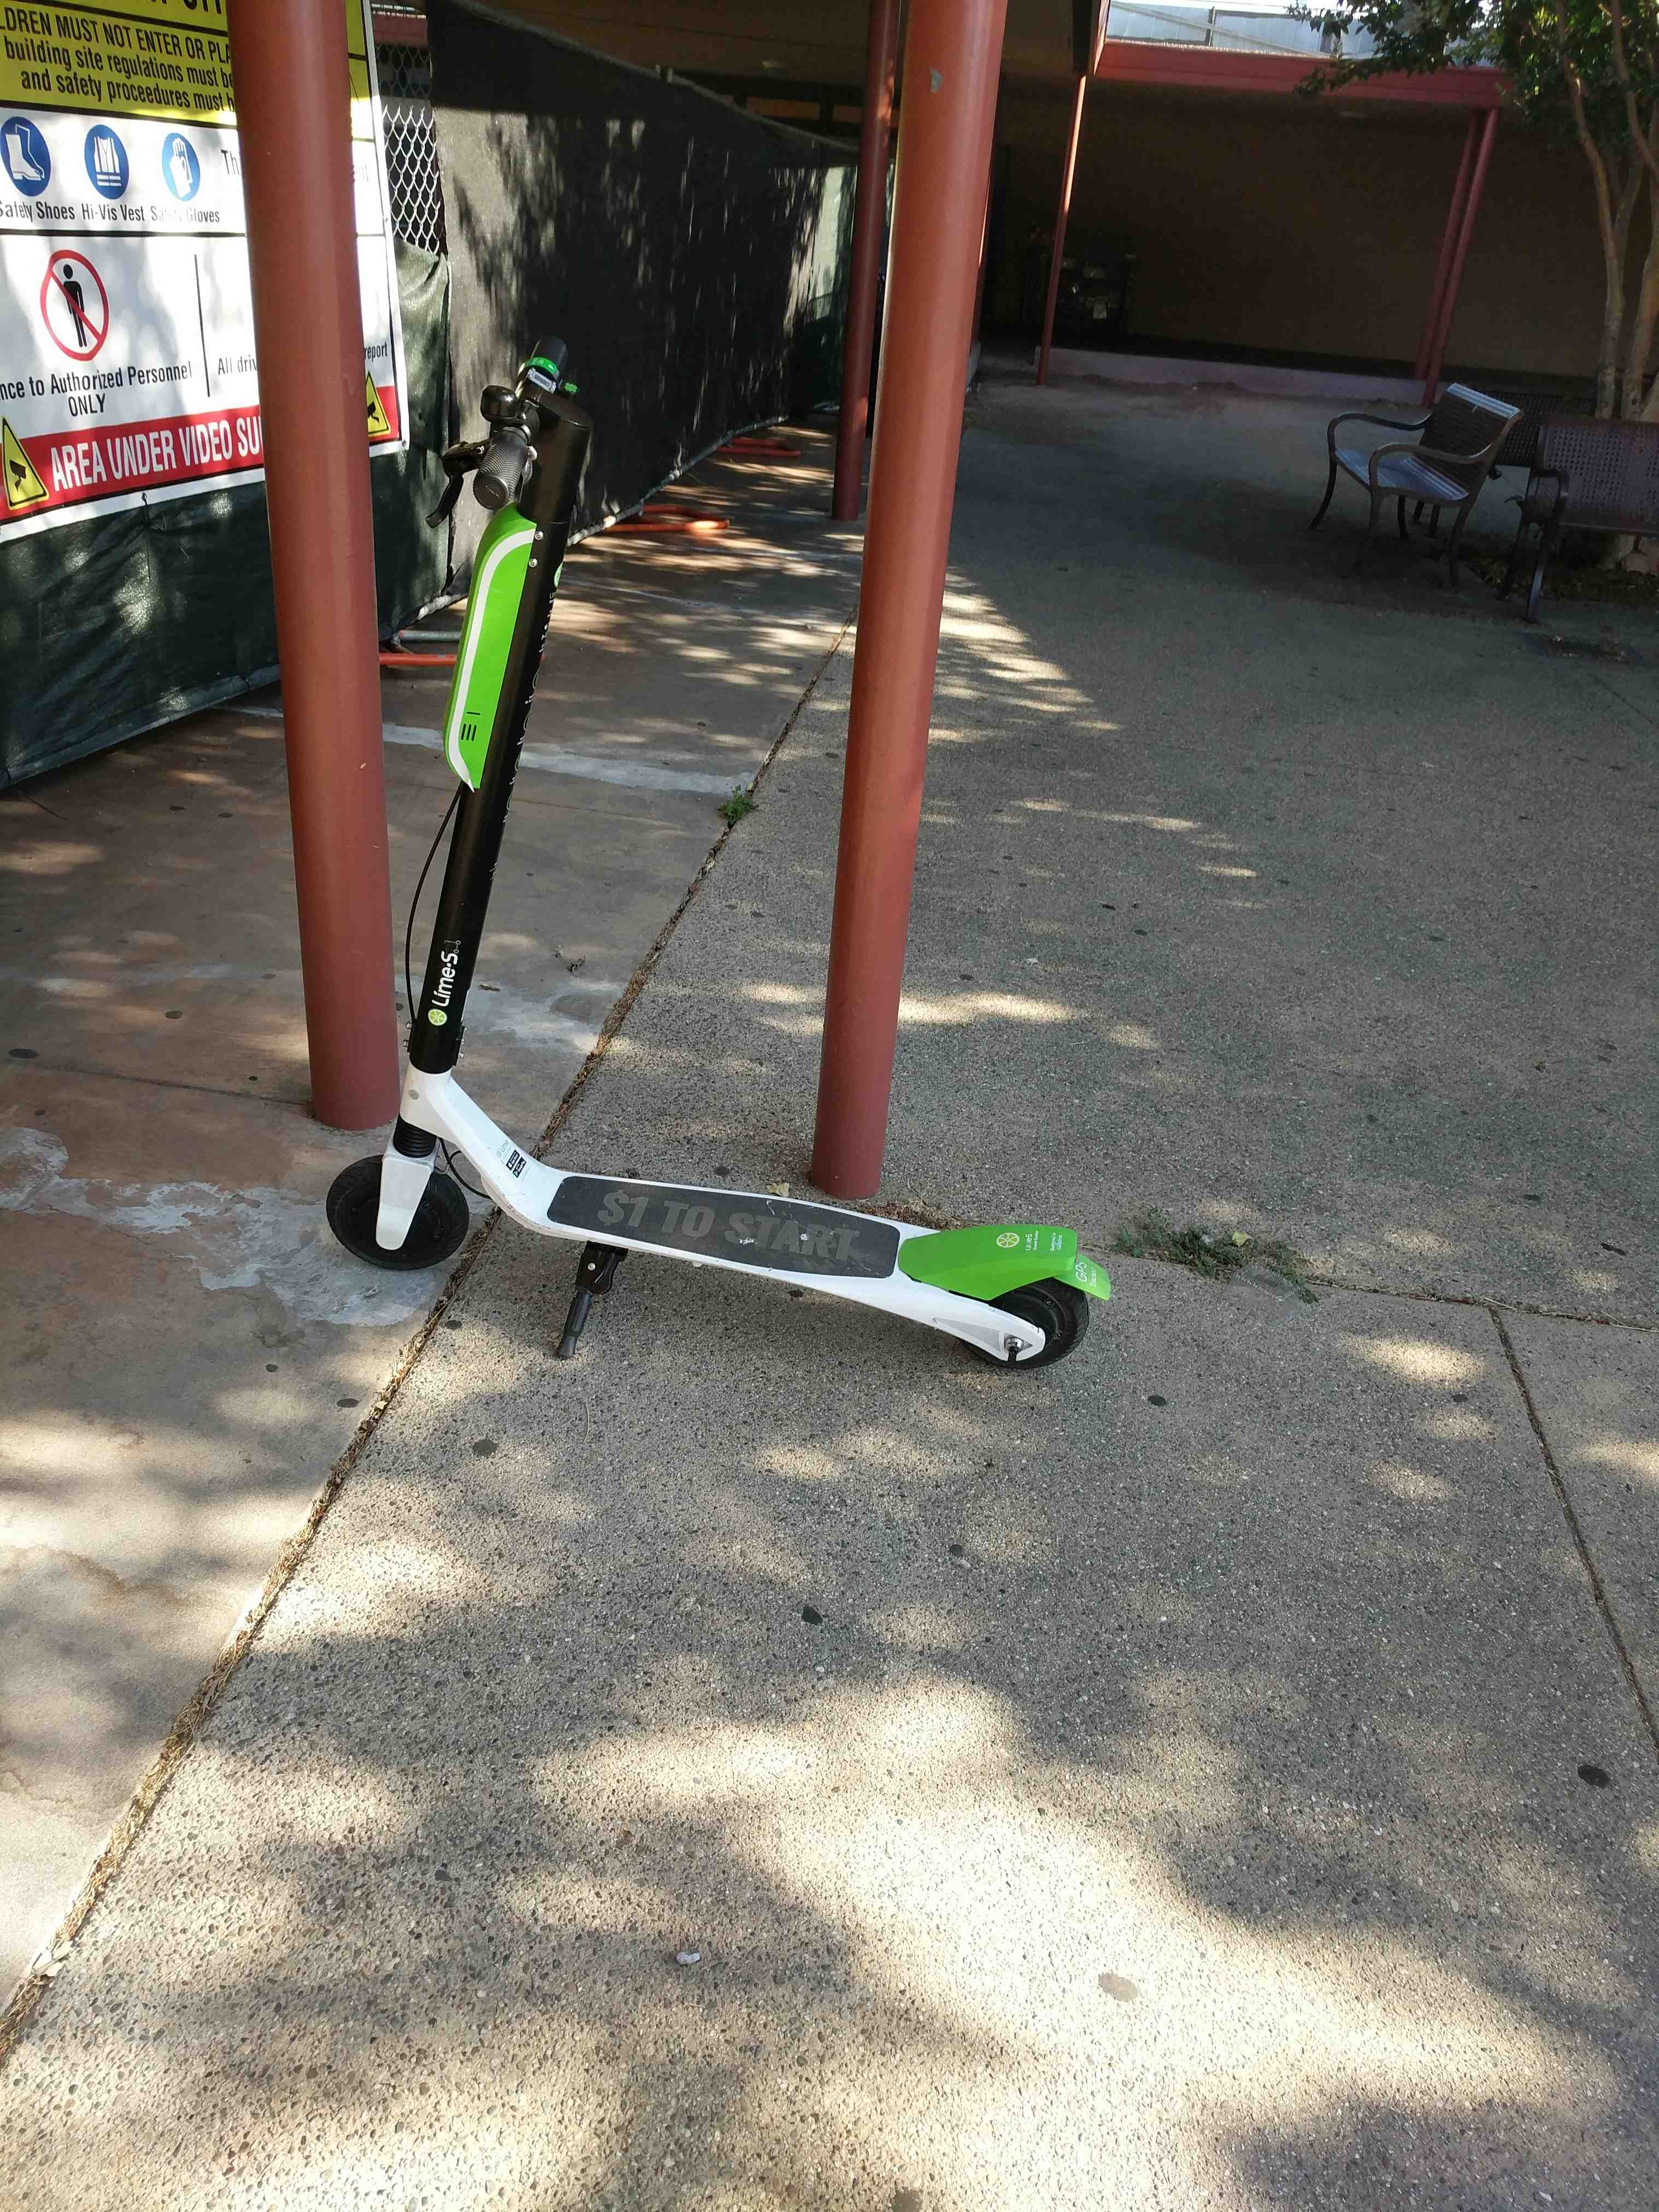scooter: (335, 308, 1138, 1406)
